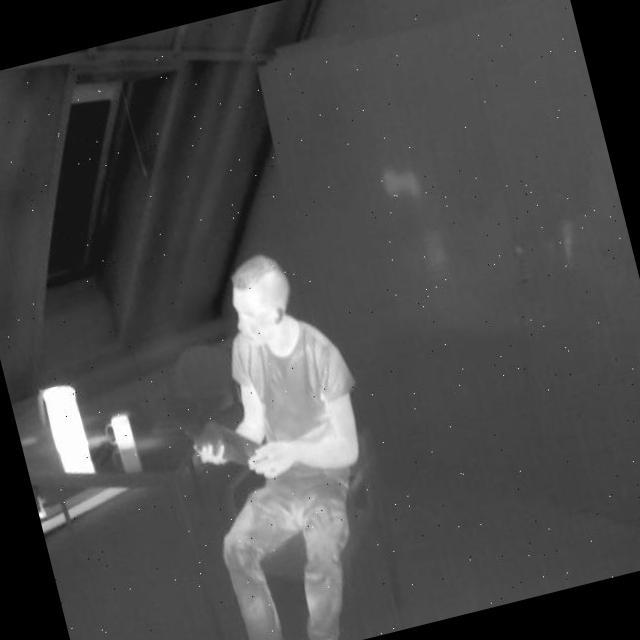person: (143, 229, 415, 640)
